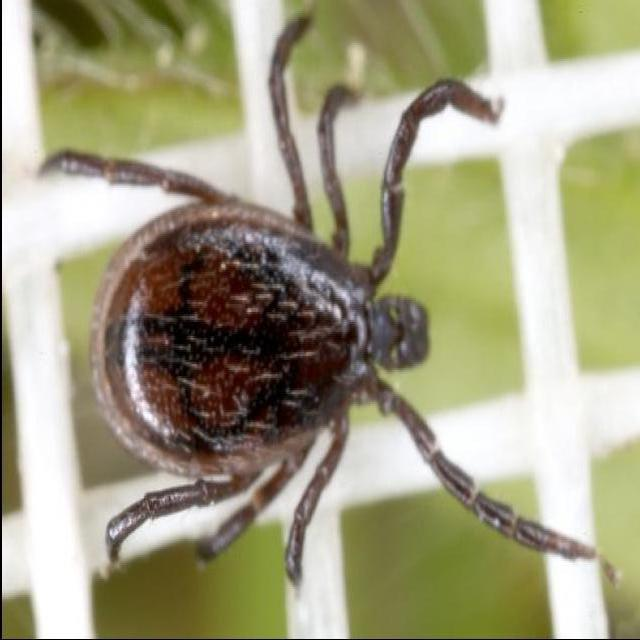Ixodes Ricinus-M: (34, 8, 596, 592)
